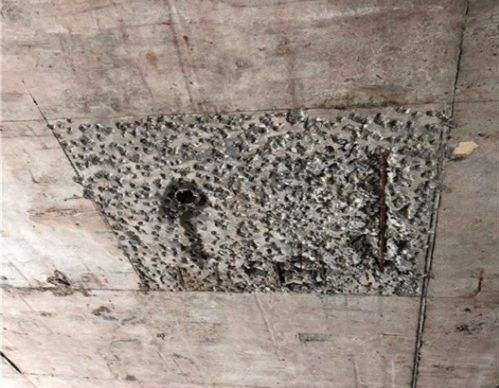Exposed reinforcement: (378, 153, 388, 272), (1, 350, 22, 376), (54, 277, 71, 288)
Spalling: (45, 104, 449, 298)
